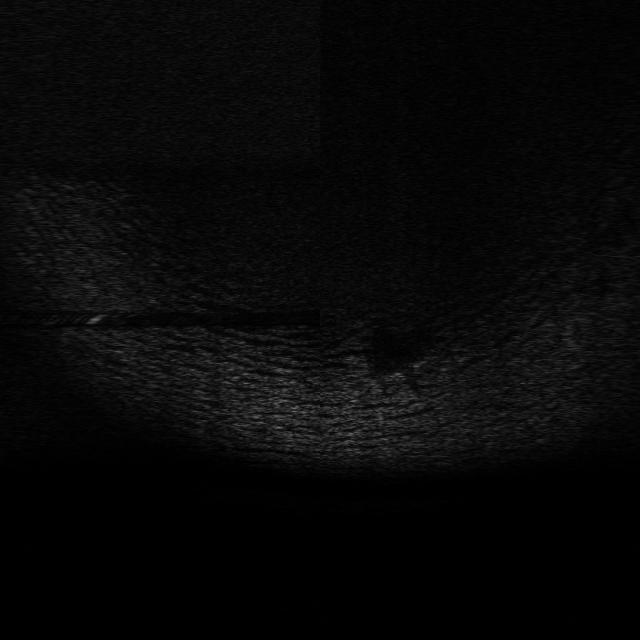plane: (362, 353, 433, 396)
